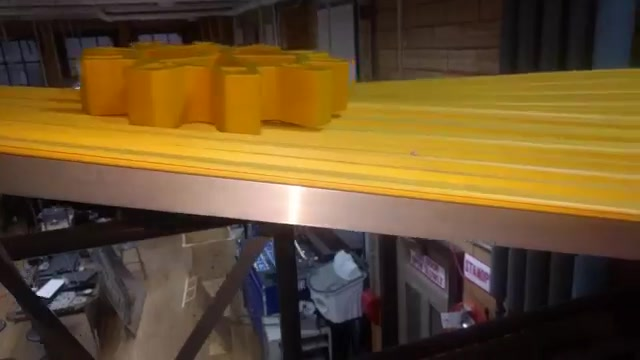gear: (80, 27, 358, 140)
